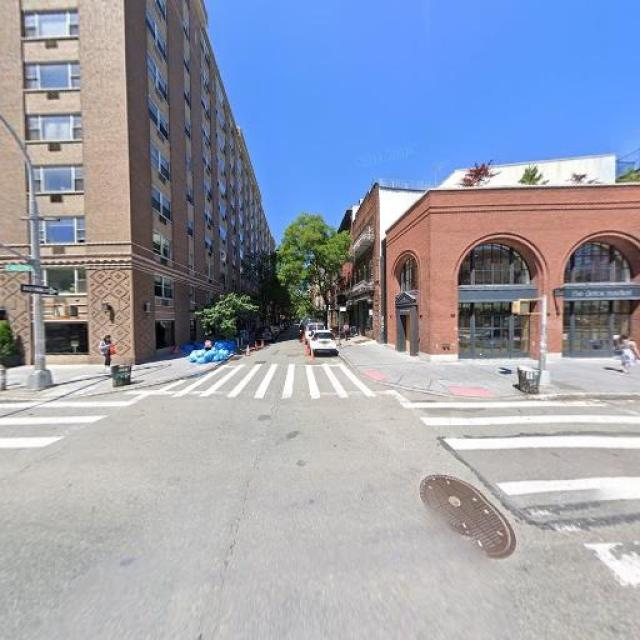Building: (1, 1, 253, 369), (385, 182, 640, 357)
